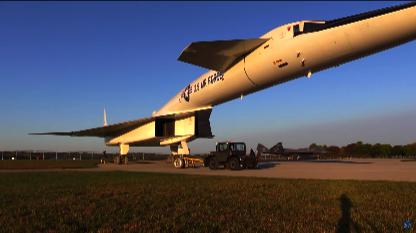U2: (27, 0, 415, 169)
US2: (256, 142, 330, 159)
